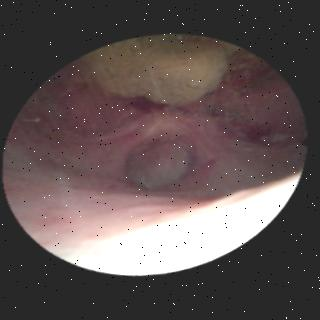stone: (82, 37, 226, 108)
tissue: (10, 54, 304, 268)
